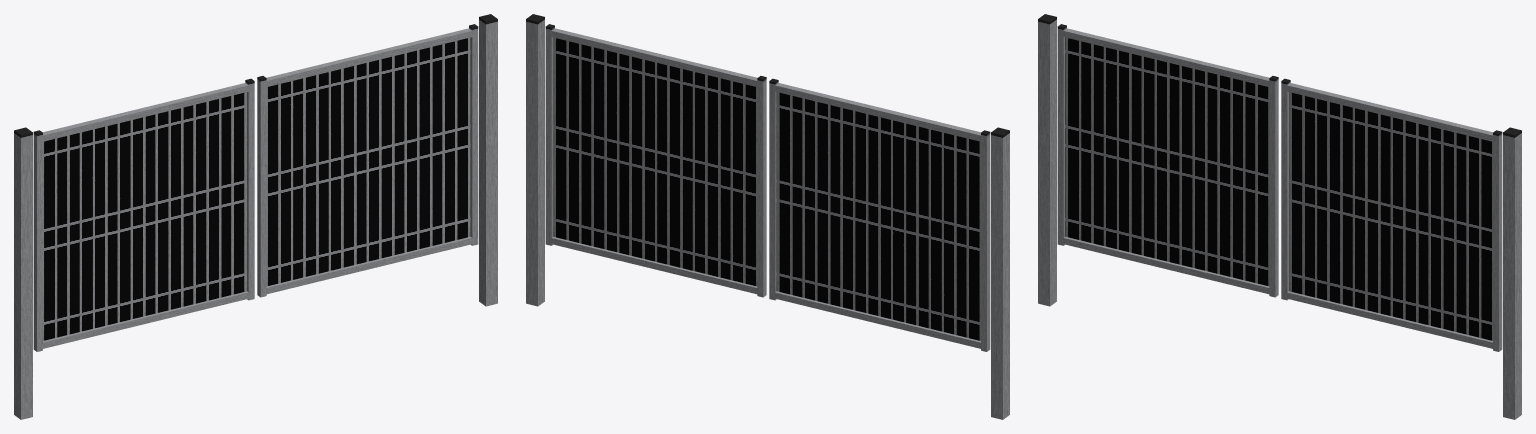
Rendered from fence-mesh-grey-gateX2-1m-cbj_LOD01.gltf.
3 renders of one model, left to right at view 1: azimuth 30°, elevation 25°; view 2: azimuth 150°, elevation 25°; view 3: azimuth 330°, elevation 25°, orthographic.
Visible parts, largest first — view 1: post.003; view 2: post.003; view 3: post.003.
Part boxes in pixels (x1=…): post.003: x1=14, y1=14, x2=497, y2=419; post.003: x1=526, y1=14, x2=1009, y2=419; post.003: x1=1038, y1=14, x2=1521, y2=419.
Bounding box in the file's own units: 2.81 × 1.6 × 0.07.
